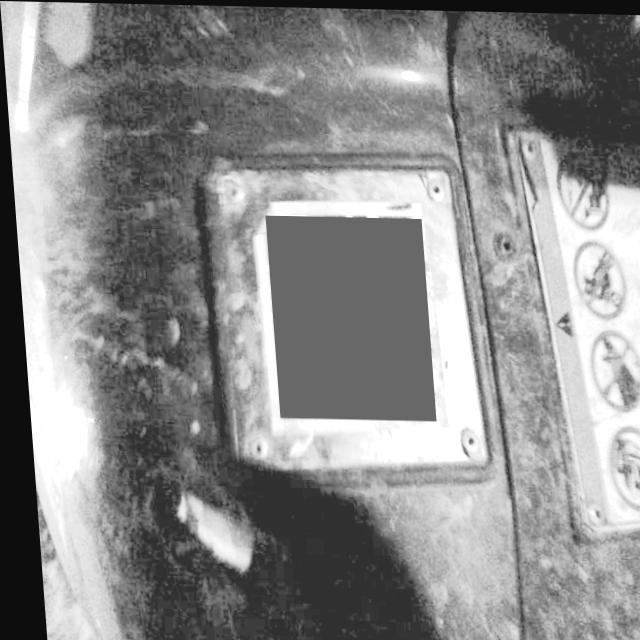qr_code: (262, 212, 431, 419)
